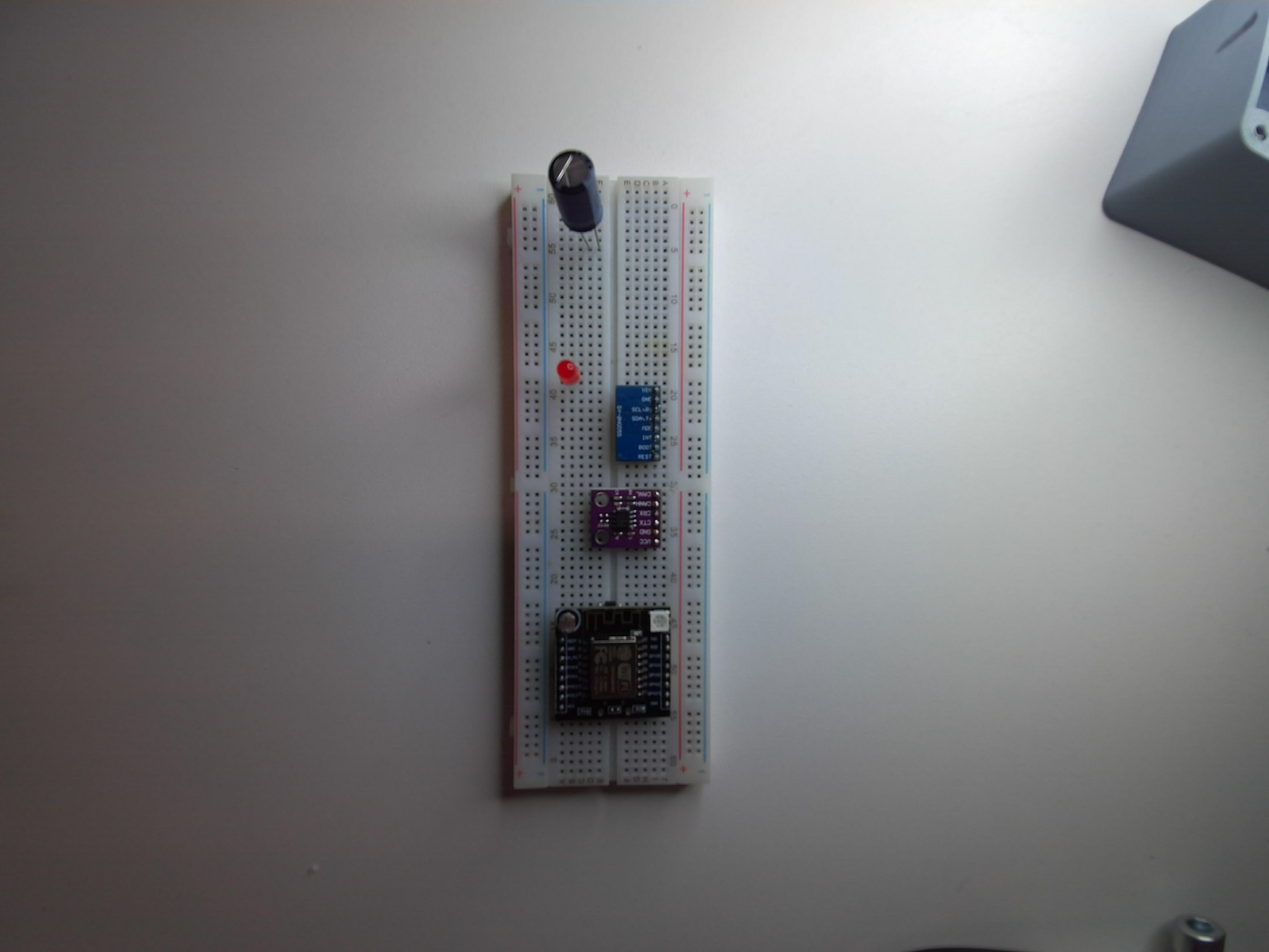base: (493, 155, 723, 800)
blue-board: (610, 383, 665, 466)
capacitor: (548, 148, 608, 238)
esp: (548, 603, 674, 723)
purple-board: (587, 485, 666, 554)
red-led: (556, 354, 581, 388)
